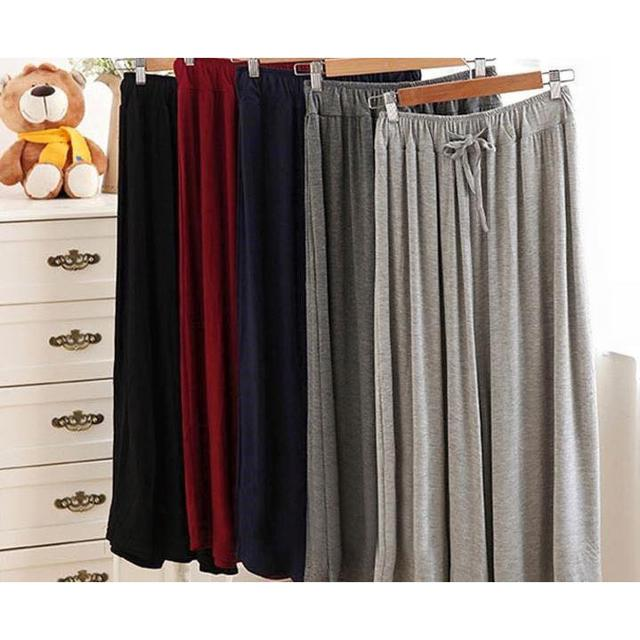Pants_Leggings: (379, 82, 601, 583)
